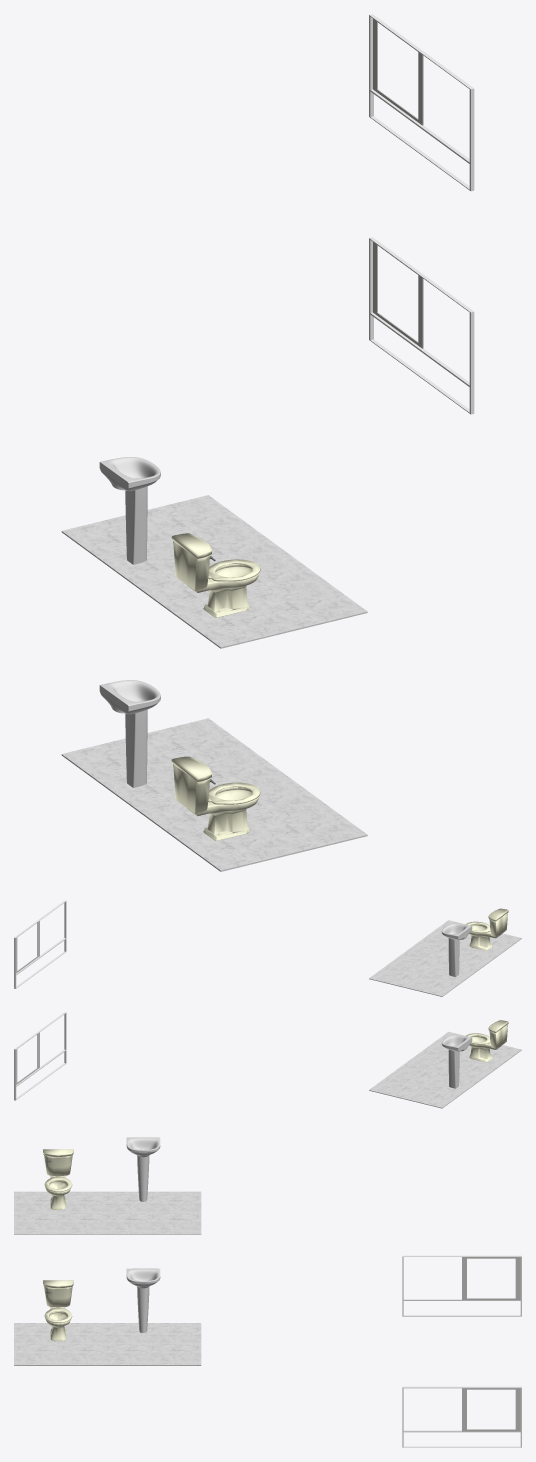
Rendered from brillosos_blancos.fbx.
3 views of the same model, one above another, from view 1: azimuth 30°, elevation 25°; view 2: azimuth 150°, elevation 25°; view 3: azimuth 270°, elevation 25° (orthographic). The views are drawn at different scales.
Visible parts, largest first — view 1: P2_pisobanio, PB_pisobanio, P2_Toilet, P2_Toilet.001, sink_pb, sink_pb.001, VentanaP2, VentanaPB, MarcoVentanaE.001, MarcoVentanaE; view 2: P2_pisobanio, PB_pisobanio, P2_Toilet, P2_Toilet.001, sink_pb.001, sink_pb, VentanaP2, VentanaPB; view 3: P2_pisobanio, PB_pisobanio, P2_Toilet.001, P2_Toilet, VentanaPB, sink_pb, sink_pb.001, VentanaP2, MarcoVentanaE, MarcoVentanaE.001.
Boxes of the visible parts, x1,y1,x2,y2 form: P2_pisobanio: [61, 495, 367, 648]; PB_pisobanio: [61, 718, 367, 871]; P2_Toilet: [171, 533, 260, 617]; P2_Toilet.001: [171, 756, 260, 840]; sink_pb: [99, 680, 160, 787]; sink_pb.001: [99, 457, 160, 564]; VentanaP2: [369, 14, 474, 191]; VentanaPB: [369, 237, 474, 414]; MarcoVentanaE.001: [373, 19, 423, 125]; MarcoVentanaE: [373, 242, 423, 348]; P2_pisobanio: [369, 920, 521, 996]; PB_pisobanio: [369, 1031, 521, 1108]; P2_Toilet: [466, 908, 508, 950]; P2_Toilet.001: [466, 1020, 508, 1062]; sink_pb.001: [441, 923, 472, 977]; sink_pb: [441, 1035, 472, 1088]; VentanaP2: [14, 900, 66, 988]; VentanaPB: [14, 1012, 66, 1100]; P2_pisobanio: [14, 1191, 201, 1234]; PB_pisobanio: [14, 1323, 201, 1365]; P2_Toilet.001: [43, 1280, 73, 1341]; P2_Toilet: [43, 1149, 73, 1209]; VentanaPB: [402, 1386, 521, 1447]; sink_pb: [126, 1268, 160, 1332]; sink_pb.001: [126, 1137, 160, 1201]; VentanaP2: [402, 1255, 521, 1316]; MarcoVentanaE: [462, 1388, 520, 1431]; MarcoVentanaE.001: [462, 1257, 520, 1299].
Bounding box in the file's own units: 830 × 542 × 1063.
